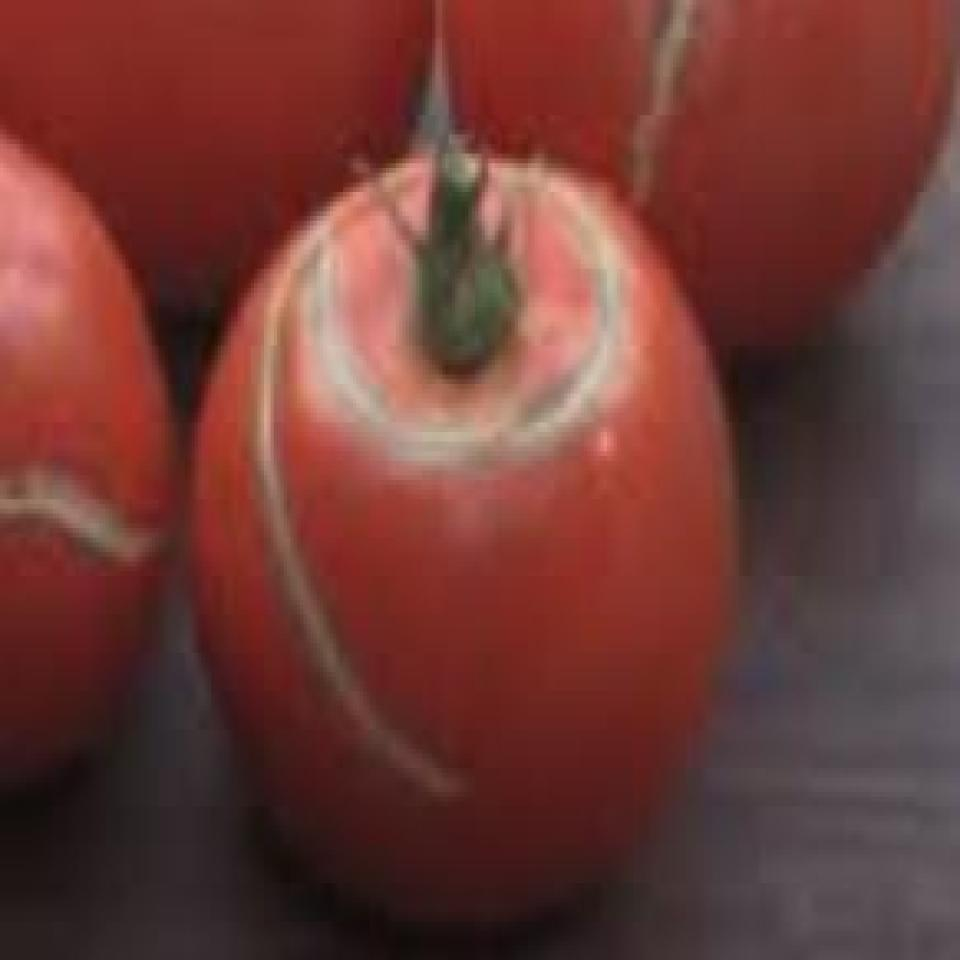Cracking: (236, 220, 476, 813), (290, 165, 638, 462), (0, 413, 165, 614), (599, 0, 714, 240)
